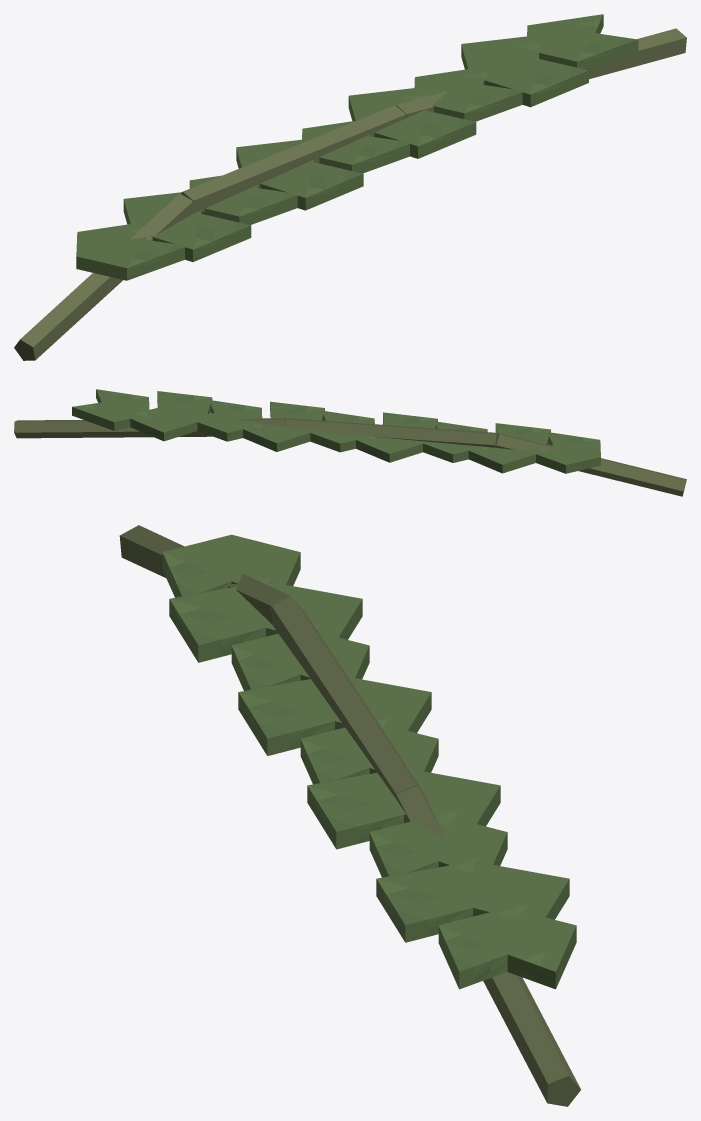
File: thyme.glb
3 views of the same model, one above another, from view 1: azimuth 30°, elevation 25°; view 2: azimuth 150°, elevation 25°; view 3: azimuth 270°, elevation 25° (orthographic). The views are drawn at different scales.
Parts seen in each view (by area): view 1: block_thyme stem 1, block_thyme stem 0, block_leaf 7 1, block_leaf 0 1, block_leaf 3 1, block_leaf 5 1, block_leaf 1 1, block_leaf 8 1, block_thyme stem 2, block_leaf 6 1, block_leaf 2 1, block_leaf 7 -1 (+7 smaller); view 2: block_thyme stem 1, block_thyme stem 0, block_thyme stem 2, block_leaf 7 -1, block_leaf 5 -1, block_leaf 1 -1, block_leaf 3 -1, block_leaf 0 -1, block_leaf 8 -1, block_leaf 7 1, block_leaf 6 -1, block_leaf 4 -1 (+9 smaller); view 3: block_thyme stem 1, block_thyme stem 2, block_leaf 7 1, block_leaf 3 1, block_leaf 5 1, block_leaf 1 1, block_leaf 7 -1, block_leaf 8 -1, block_leaf 8 1, block_leaf 5 -1, block_leaf 0 1, block_leaf 6 1 (+9 smaller).
Part boxes in pixels (bbox=[...]): block_thyme stem 1: bbox=[181, 105, 406, 213]; block_thyme stem 0: bbox=[14, 193, 193, 360]; block_leaf 7 1: bbox=[471, 59, 588, 107]; block_leaf 0 1: bbox=[76, 239, 186, 280]; block_leaf 3 1: bbox=[260, 162, 363, 210]; block_leaf 5 1: bbox=[374, 110, 476, 158]; block_leaf 1 1: bbox=[137, 214, 251, 261]; block_leaf 8 1: bbox=[528, 33, 638, 69]; block_thyme stem 2: bbox=[396, 28, 686, 117]; block_leaf 6 1: bbox=[432, 84, 525, 121]; block_leaf 2 1: bbox=[201, 188, 297, 224]; block_leaf 7 -1: bbox=[461, 35, 540, 75]; block_thyme stem 1: bbox=[285, 418, 499, 447]; block_thyme stem 0: bbox=[496, 433, 686, 496]; block_thyme stem 2: bbox=[14, 418, 287, 438]; block_leaf 7 -1: bbox=[130, 407, 205, 441]; block_leaf 5 -1: bbox=[236, 423, 310, 451]; block_leaf 1 -1: bbox=[462, 445, 535, 473]; block_leaf 3 -1: bbox=[350, 435, 428, 462]; block_leaf 0 -1: bbox=[525, 445, 600, 473]; block_leaf 8 -1: bbox=[72, 402, 146, 430]; block_leaf 7 1: bbox=[157, 391, 212, 419]; block_leaf 6 -1: bbox=[185, 413, 261, 441]; block_leaf 4 -1: bbox=[299, 428, 369, 452]; block_thyme stem 1: bbox=[272, 597, 424, 798]; block_thyme stem 2: bbox=[396, 786, 580, 1106]; block_leaf 7 1: bbox=[376, 861, 472, 942]; block_leaf 3 1: bbox=[238, 679, 334, 755]; block_leaf 5 1: bbox=[307, 773, 403, 849]; block_leaf 1 1: bbox=[169, 581, 265, 662]; block_leaf 7 -1: bbox=[473, 861, 569, 924]; block_leaf 8 -1: bbox=[507, 908, 576, 989]; block_leaf 8 1: bbox=[438, 909, 507, 989]; block_leaf 5 -1: bbox=[404, 771, 500, 831]; block_leaf 0 1: bbox=[162, 534, 231, 598]; block_leaf 6 1: bbox=[369, 815, 438, 878].
Bounding box in the file's own units: 0.095 × 0.00865 × 0.0335.
Materials: 1 (1 with a texture image).
